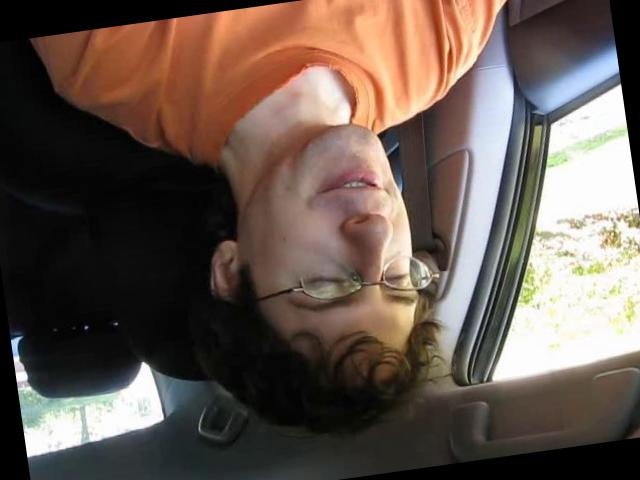eye_closed: (302, 266, 351, 298), (381, 267, 415, 290)
face: (245, 116, 427, 346)
